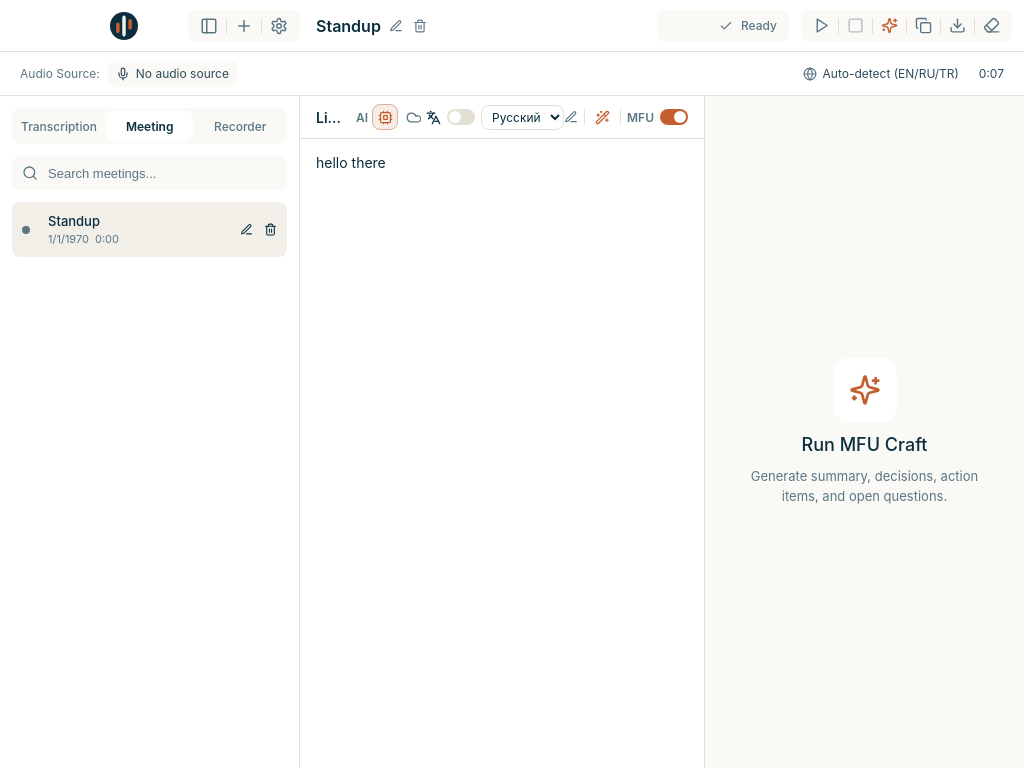
it: StreamingView — mfu › Craft / MFU › omits empty mfu sections
Click the text "Standup". click: point(74, 221)
box: [48,213,100,229]
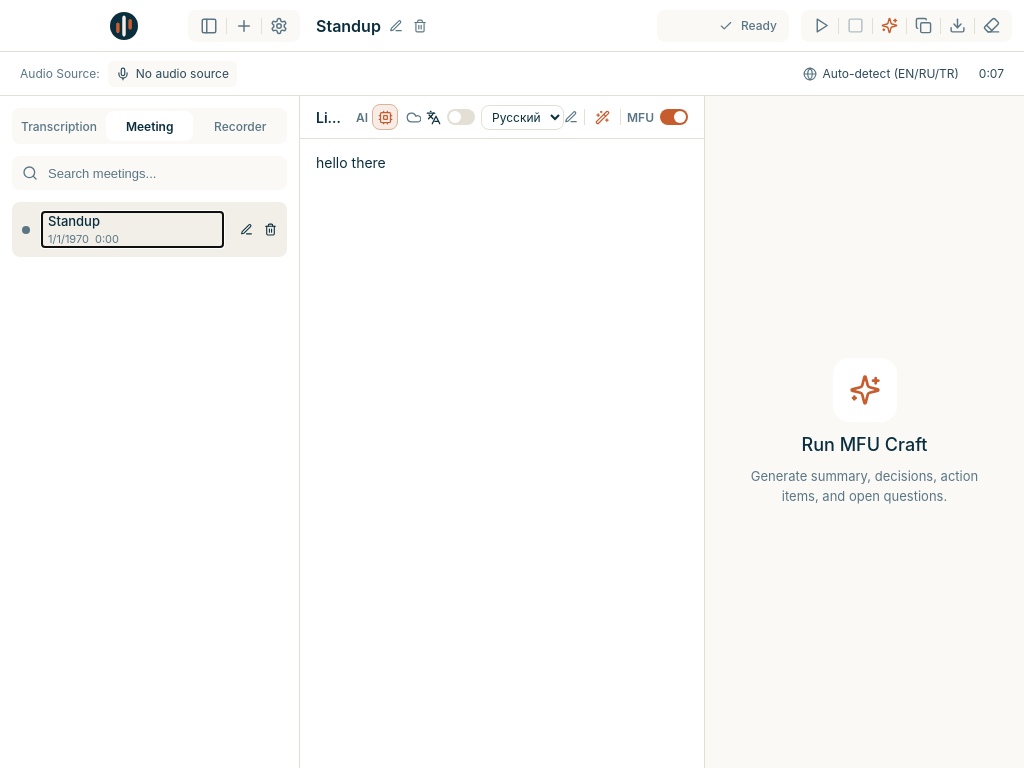
Click the button named "Craft MFU". click: point(890, 26)
box: [877,13,902,38]
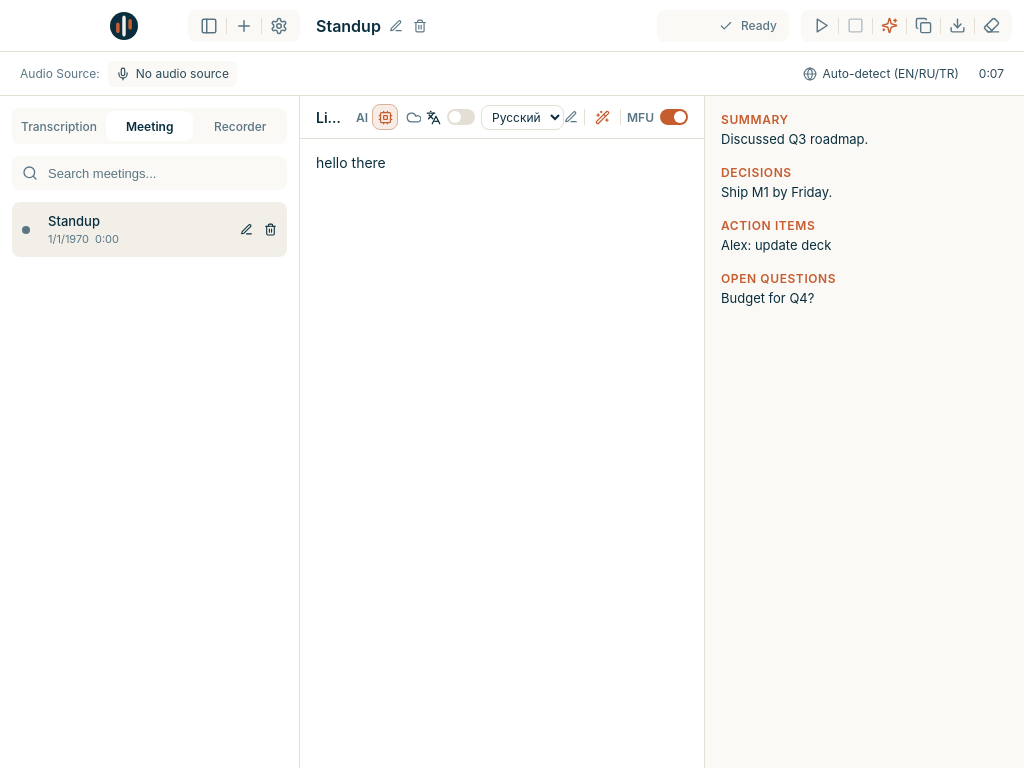
Now the text "Discussed Q3 roadmap." is shown, box [721,131,868,147]
